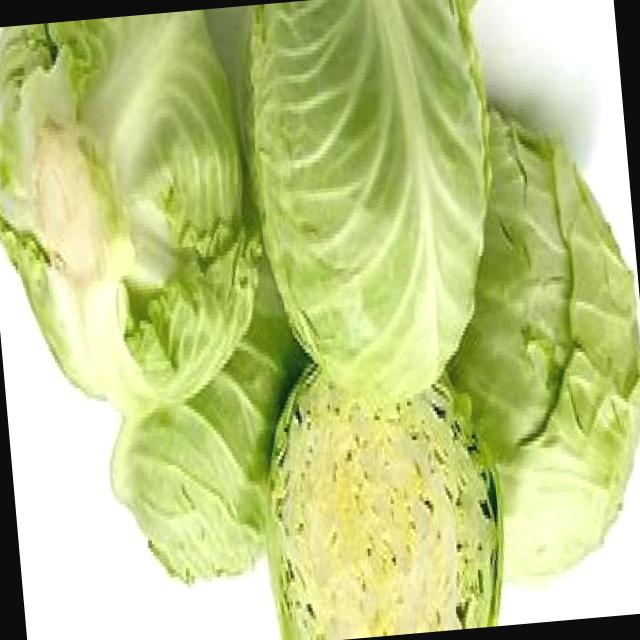cabbage: (0, 5, 275, 424), (235, 0, 515, 409), (248, 353, 512, 640)
